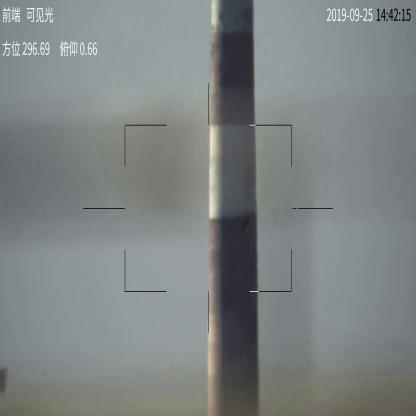uav: (234, 208, 256, 230)
